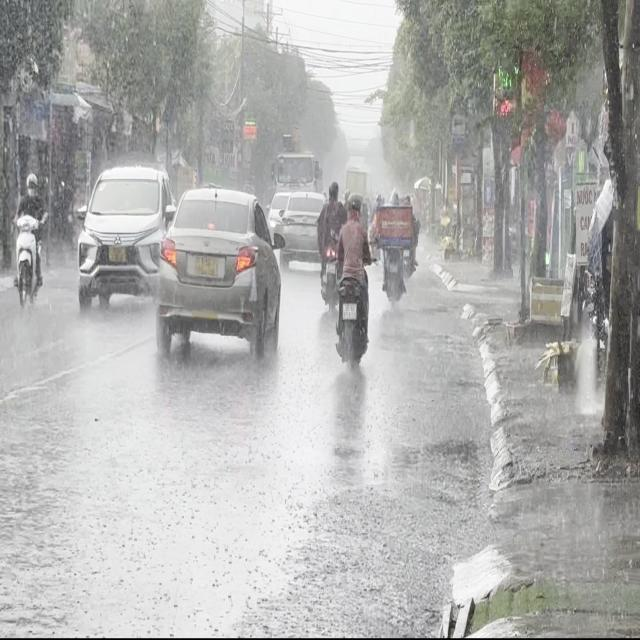helmet: (24, 172, 38, 197)
licenseplate: (12, 170, 48, 305)
